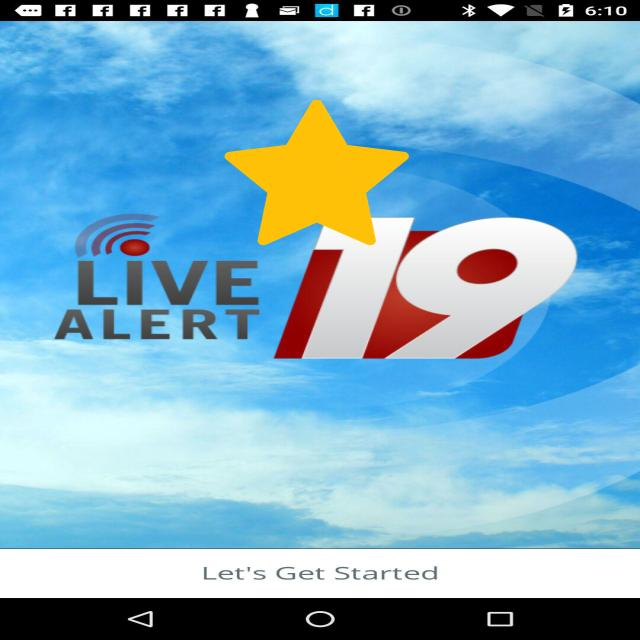forced continuity: (224, 100, 409, 245)
